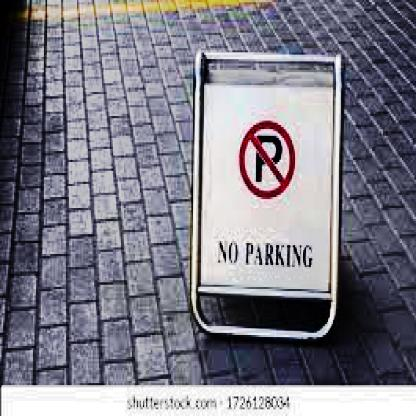No parking: (234, 117, 305, 203)
